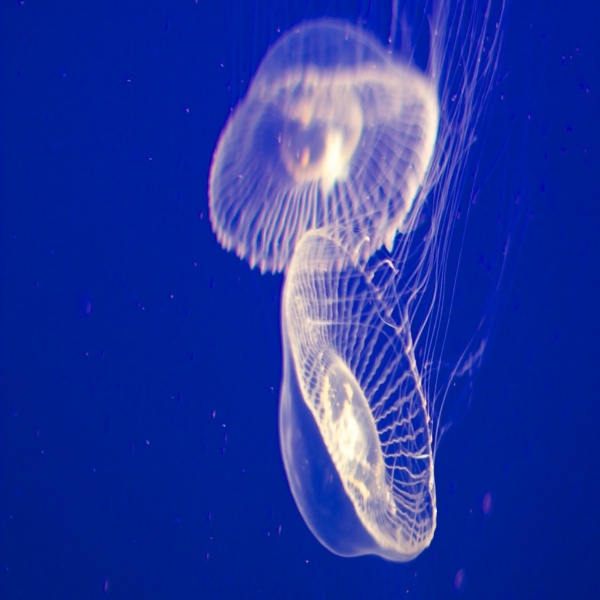Jellyfish: (207, 0, 550, 564)
